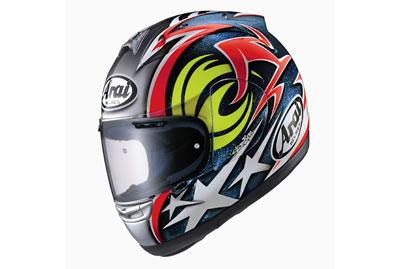helmet: (95, 18, 310, 206)
